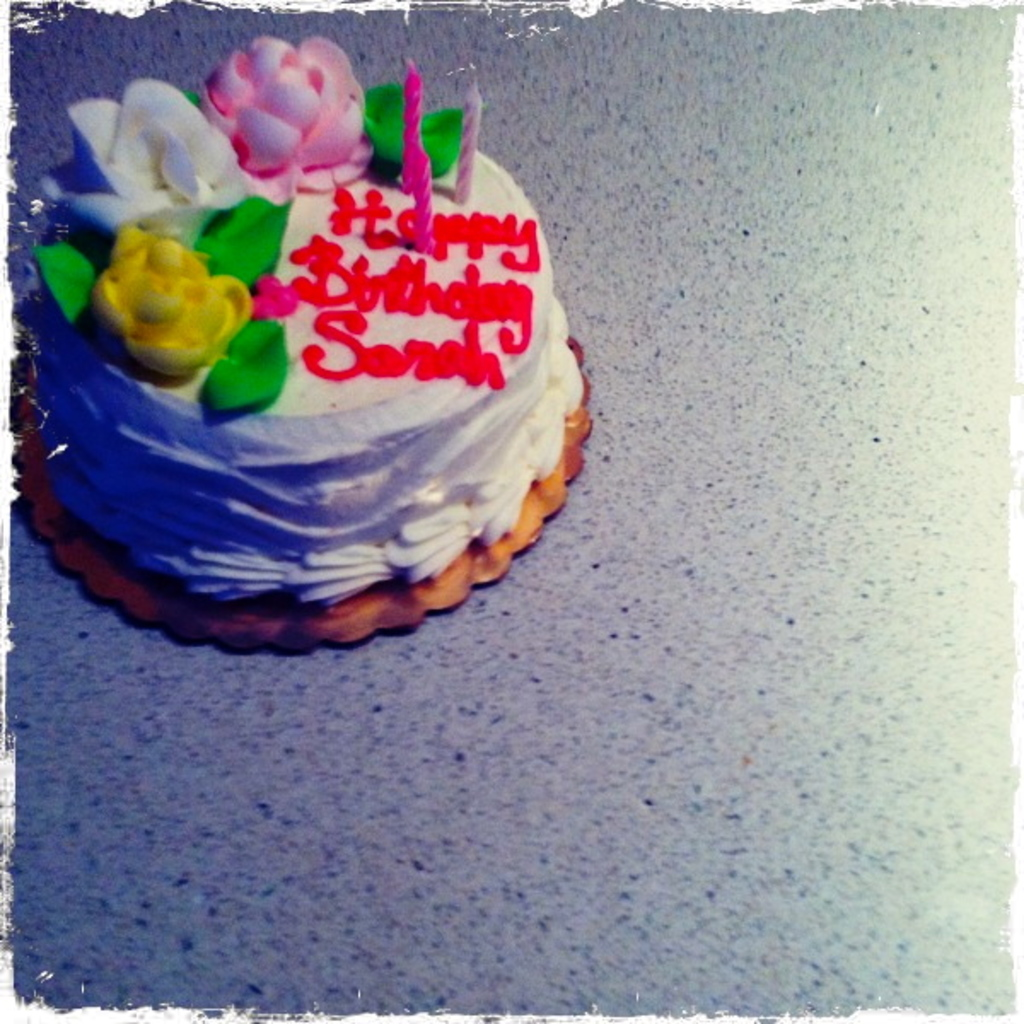cake: (10, 31, 592, 655)
